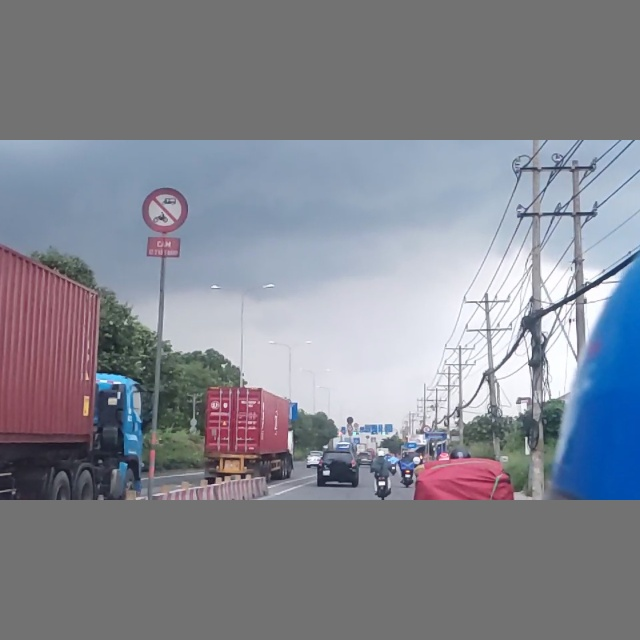P.111: (141, 187, 189, 233)
